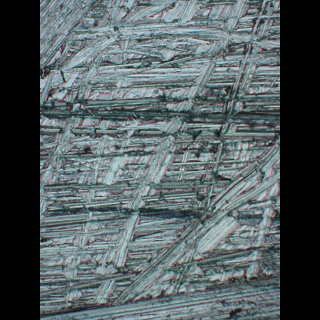d: (40, 0, 278, 318)
